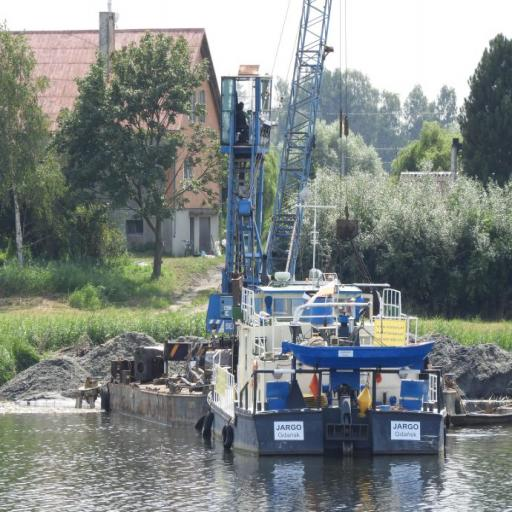tugboat: (199, 61, 457, 469)
